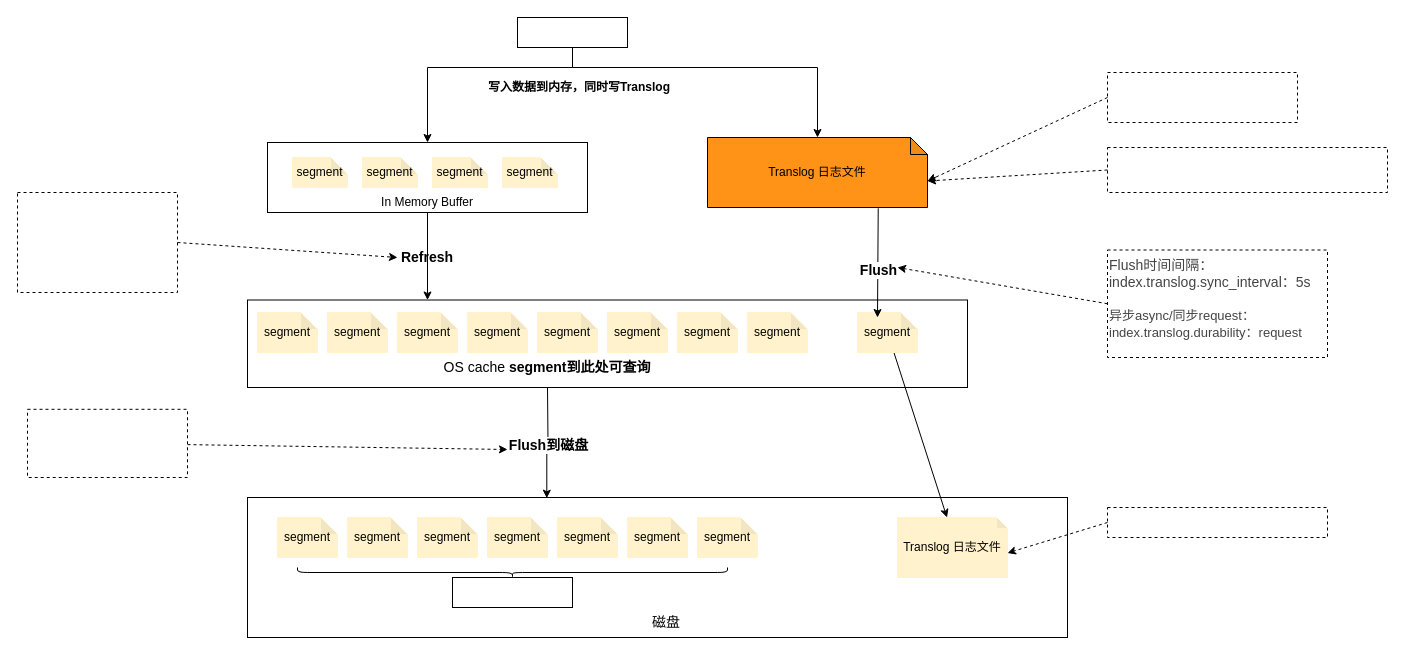
Image size: 1405x655. Some labels were removed from this diagram. The shapes that lost their labels are listed below. From the top down, each one's box as (x1, y1, x2, y2) in pixels, then its label:
(516, 16, 628, 48): document
(1106, 72, 1298, 122): 当有多个数据进来时进行追加
(1106, 146, 1388, 192): 文件大小： index.translog.flush_threshold_size:512MB
(16, 192, 178, 292): 默认每隔1S或者buffer满，将内存中的segment刷新到操作系统缓存中，此时，in memory buffer 清空
(26, 408, 188, 478): 30分钟或者Translog过大 先执行Refresh 再执行Flush
(1106, 506, 1328, 538): 宕机时数据恢复
(452, 576, 572, 608): Commit point
